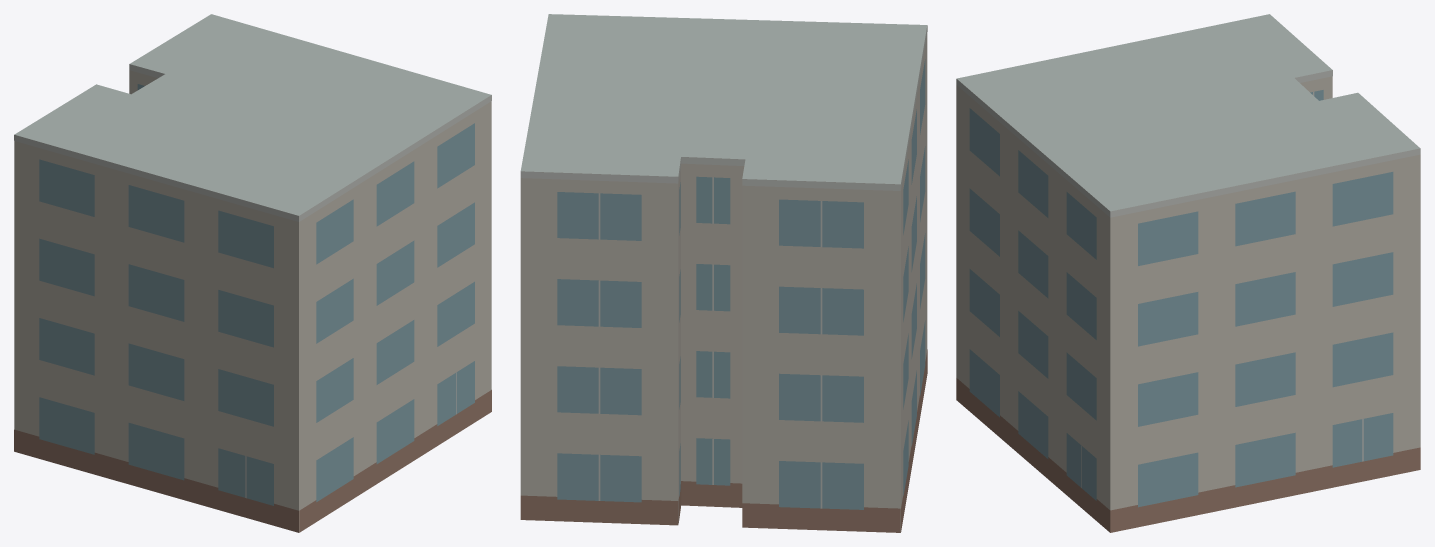
The model's file is survey-upis-32815806.glb.
3 views of the same model, side by side, from view 1: azimuth 30°, elevation 25°; view 2: azimuth 150°, elevation 25°; view 3: azimuth 270°, elevation 25° (orthographic). The views are drawn at different scales.
Parts seen in each view (by area): view 1: survey-upis-32815806.tmp; view 2: survey-upis-32815806.tmp; view 3: survey-upis-32815806.tmp.
Part boxes in pixels (x1,y1,x2,y2): survey-upis-32815806.tmp: (14, 14, 491, 532); survey-upis-32815806.tmp: (520, 14, 927, 532); survey-upis-32815806.tmp: (956, 14, 1420, 532).
Bounding box in the file's own units: 16.55 × 12.56 × 16.44.
